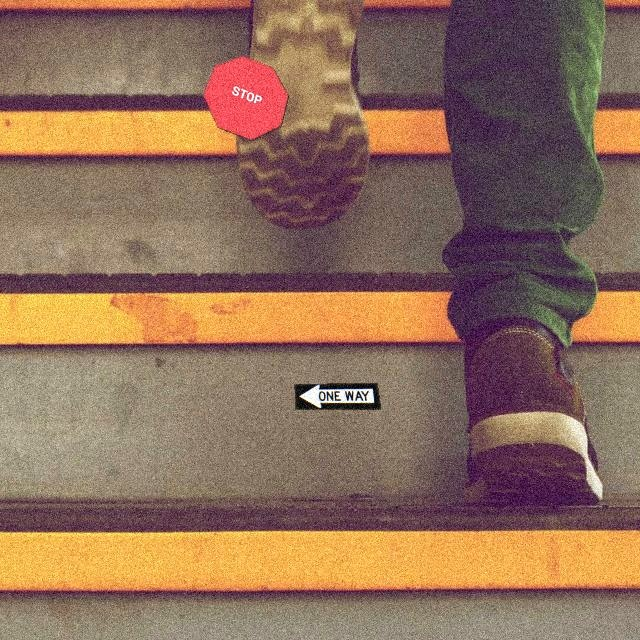ONE_WAY_ left: (294, 382, 381, 410)
STOP: (202, 55, 289, 141)
